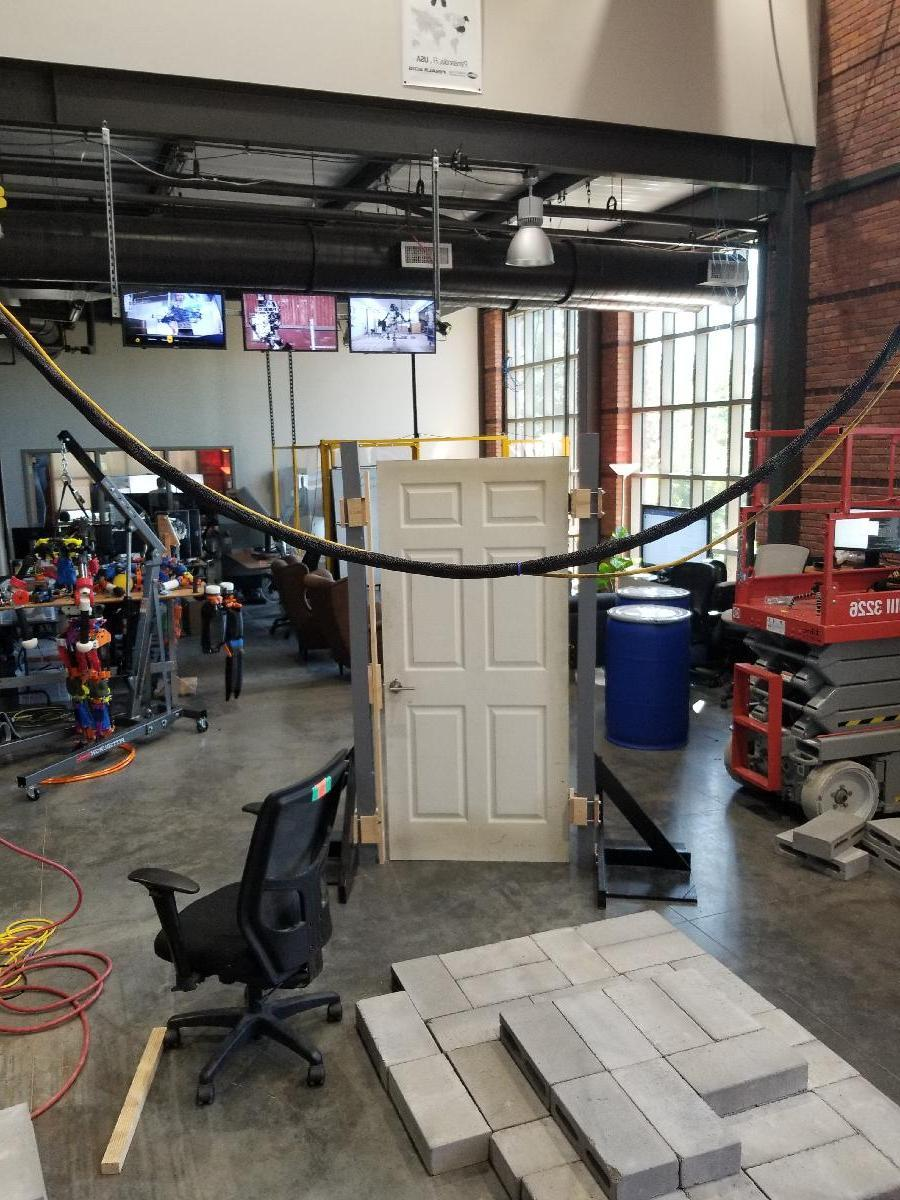door: (374, 453, 576, 869)
handle: (388, 678, 415, 695)
